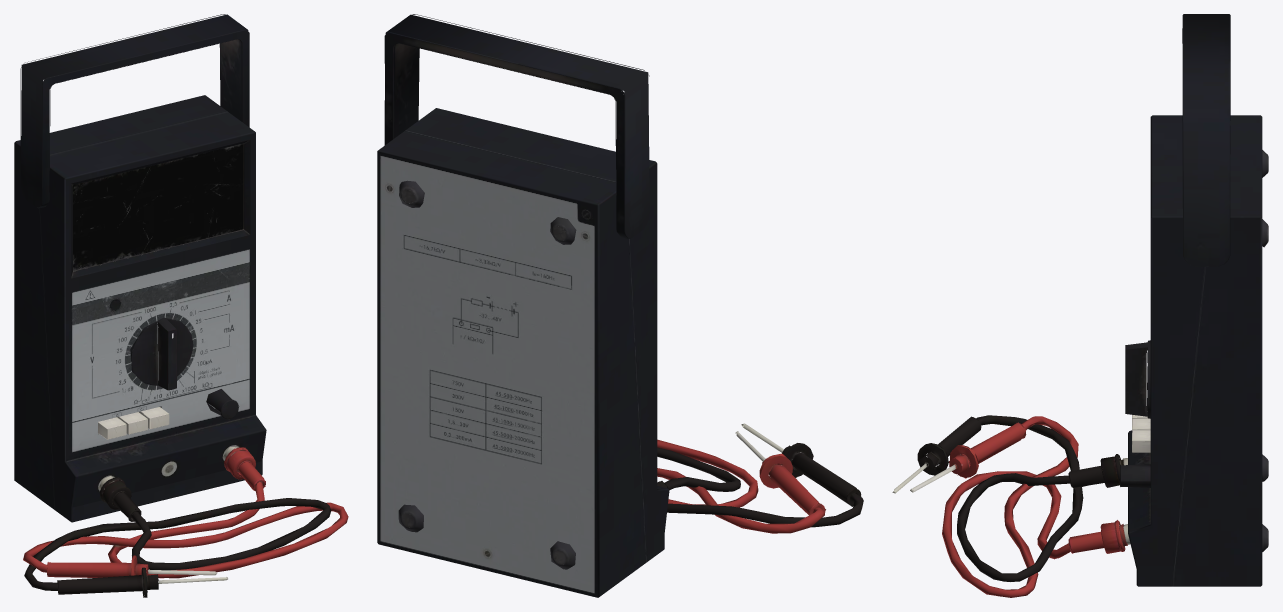
File: ph_retro_multimeter.glb
3 views of the same model, side by side, from view 1: azimuth 30°, elevation 25°; view 2: azimuth 150°, elevation 25°; view 3: azimuth 270°, elevation 25° (orthographic). The views are drawn at different scales.
Parts seen in each view (by area): view 1: retro_multimeter_LOD0; view 2: retro_multimeter_LOD0; view 3: retro_multimeter_LOD0.
Part boxes in pixels (left/top/right/bottom): retro_multimeter_LOD0: left=14, top=14, right=348, bottom=597; retro_multimeter_LOD0: left=377, top=14, right=863, bottom=597; retro_multimeter_LOD0: left=892, top=14, right=1268, bottom=597.
Bounding box in the file's own units: 0.2159 × 0.279 × 0.2026.
Materials: 2 (2 with a texture image).
